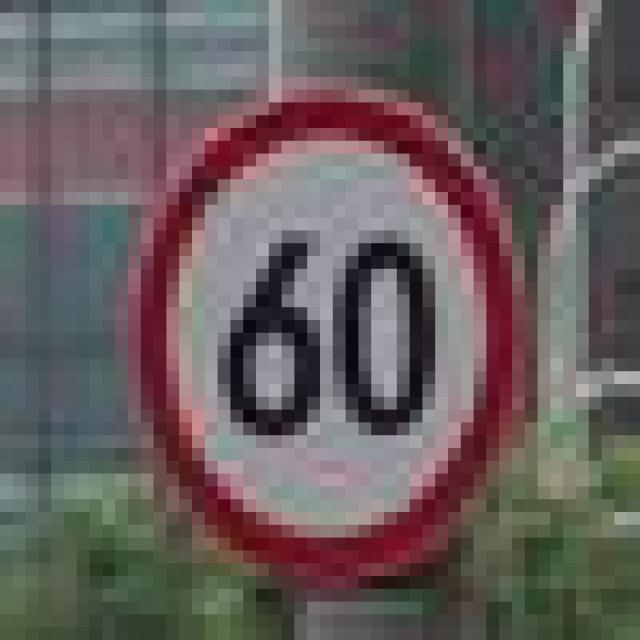speed_limit_40: (115, 77, 525, 576)
